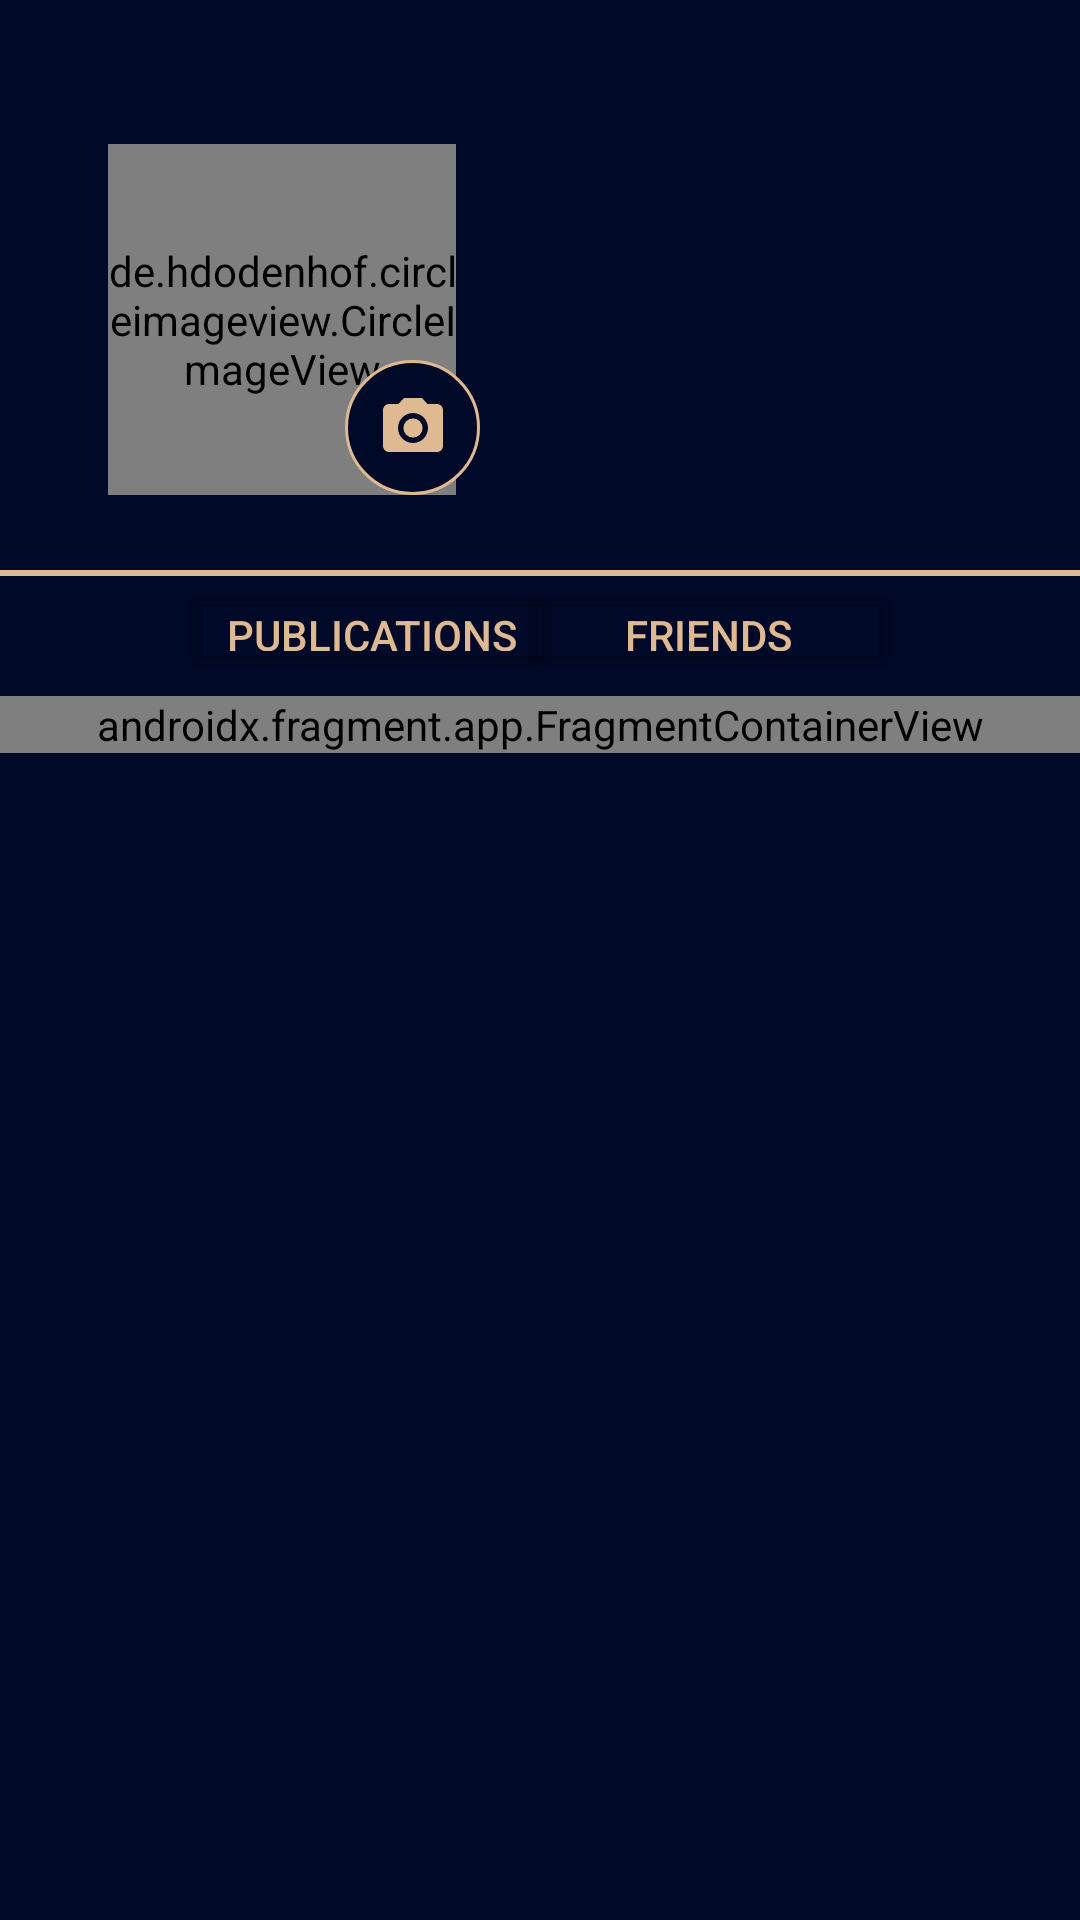

Where to tap for icons on this 1080×1920 app screen, as point (x, y):
photo camera: point (412, 427)
